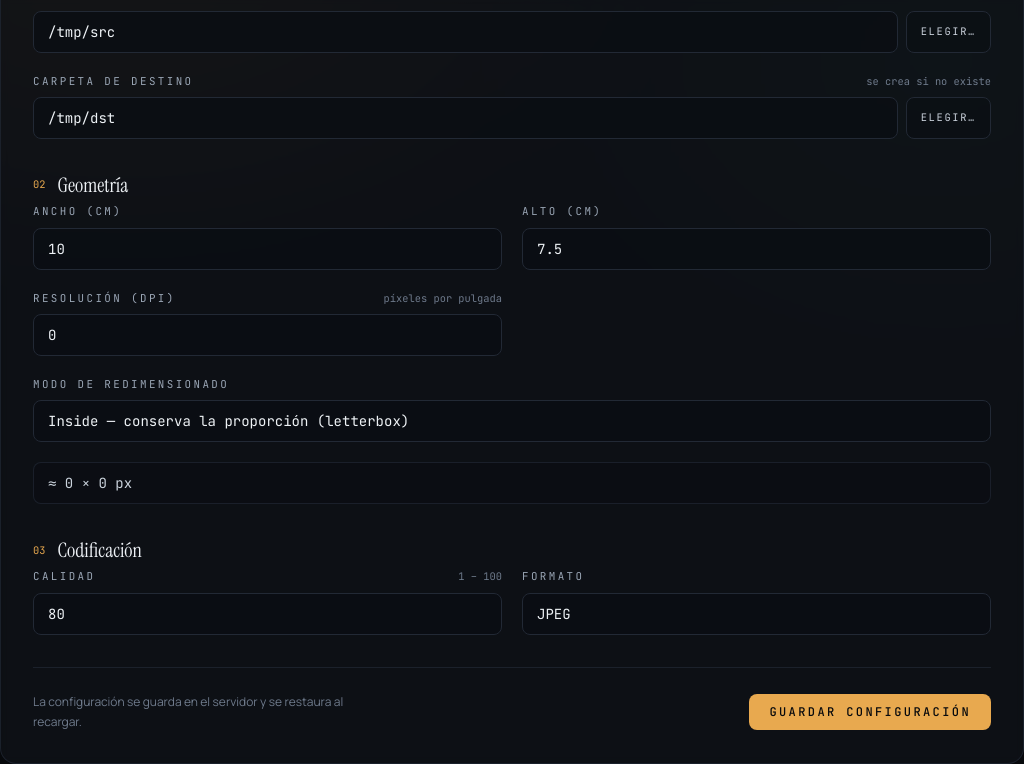
Test: ConfigForm › rejects a DPI outside the supported range
This screenshot has width=1024, height=764.
(page scrolled)
What coordinates should you click on to do the following:
click the button "Guardar configuración"
I would click on:
 (870, 712)
Its box is [749, 694, 991, 730].
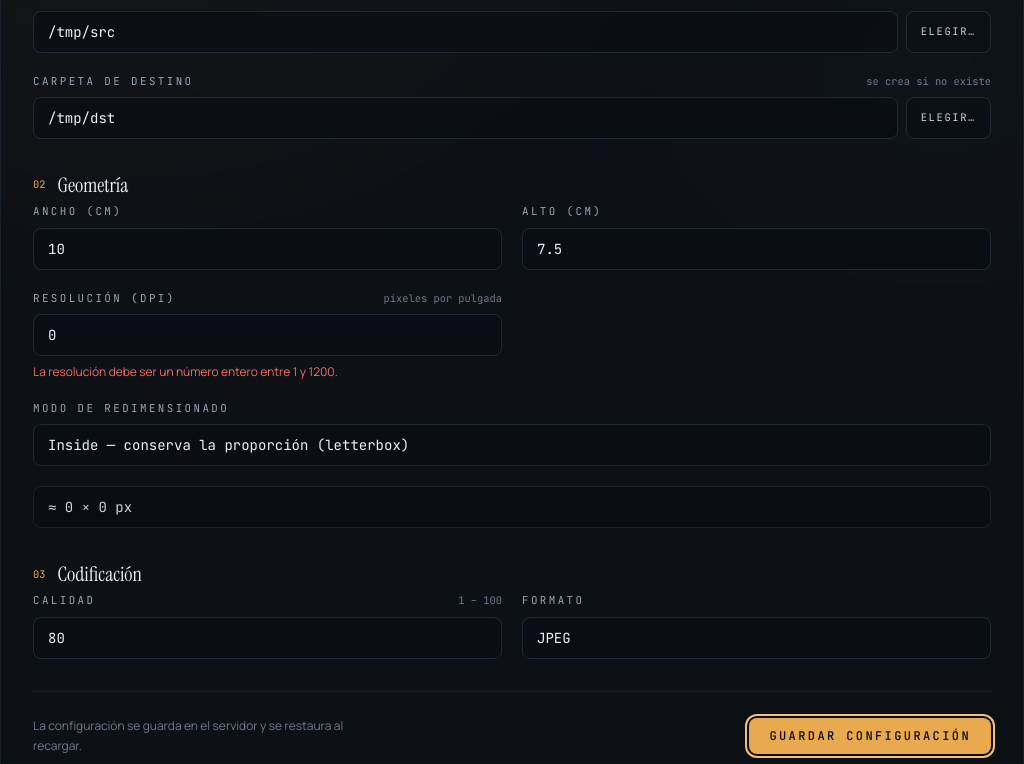
Expected: the text "La resolución debe ser un número entero entre 1 y 1200." is shown, [33, 363, 338, 380]
